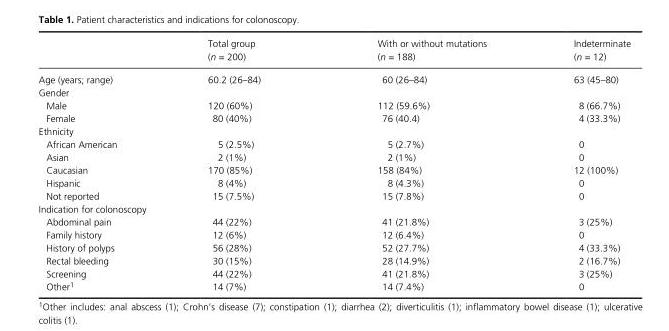table: (37, 37, 629, 291)
table column: (318, 37, 529, 291), (161, 37, 318, 291), (37, 37, 161, 291), (529, 37, 629, 291)
table column header: (37, 37, 629, 67)
table projected row header: (37, 85, 629, 98), (37, 124, 629, 137), (37, 202, 629, 214)
table row: (37, 37, 629, 67), (37, 67, 629, 85), (37, 85, 629, 98), (37, 98, 629, 111), (37, 111, 629, 124), (37, 124, 629, 137), (37, 137, 629, 150), (37, 150, 629, 163), (37, 163, 629, 176), (37, 176, 629, 189), (37, 189, 629, 202), (37, 214, 629, 227), (37, 227, 629, 240), (37, 240, 629, 253), (37, 253, 629, 266), (37, 266, 629, 279), (37, 202, 629, 214), (37, 279, 629, 291)
